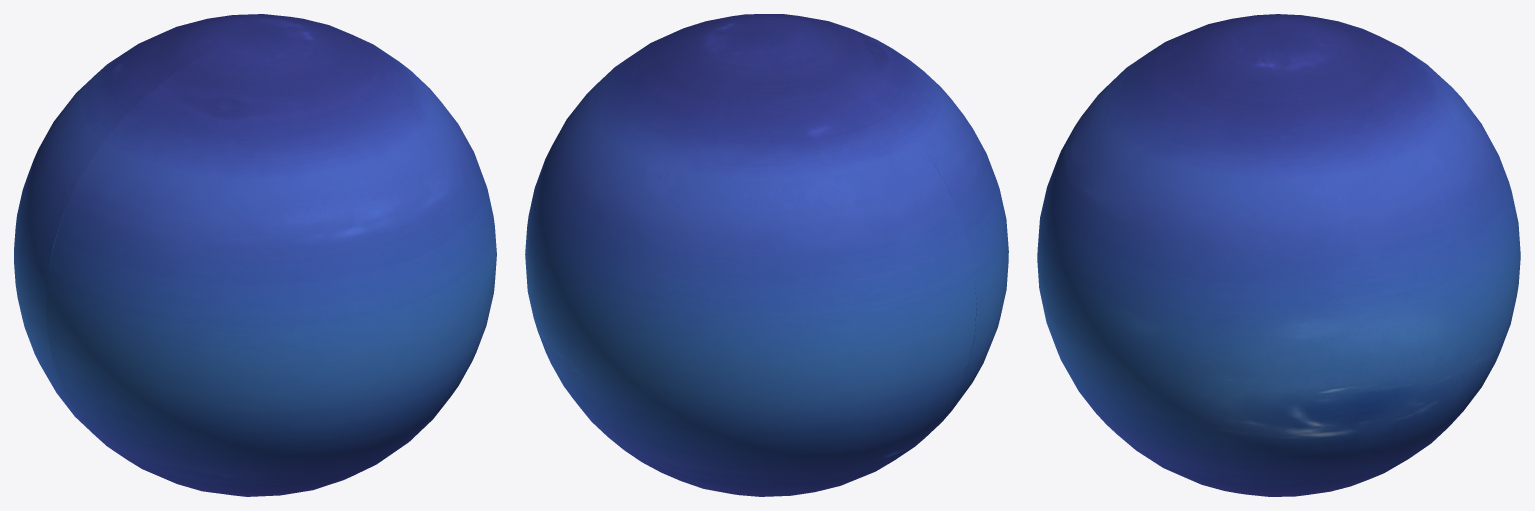
Rendered from neptune.glb.
3 renders of one model, left to right at view 1: azimuth 30°, elevation 25°; view 2: azimuth 150°, elevation 25°; view 3: azimuth 270°, elevation 25°, orthographic.
Parts seen in each view (by area): view 1: Sphere_Material.002_0.005; view 2: Sphere_Material.002_0.005; view 3: Sphere_Material.002_0.005.
Boxes of the visible parts, <box> form: Sphere_Material.002_0.005: <box>14,14,496,496</box>; Sphere_Material.002_0.005: <box>525,14,1008,496</box>; Sphere_Material.002_0.005: <box>1037,14,1520,496</box>.
Size of the model in its own units: 7.72 by 7.72 by 7.72.
Materials: 1 (1 with a texture image).
